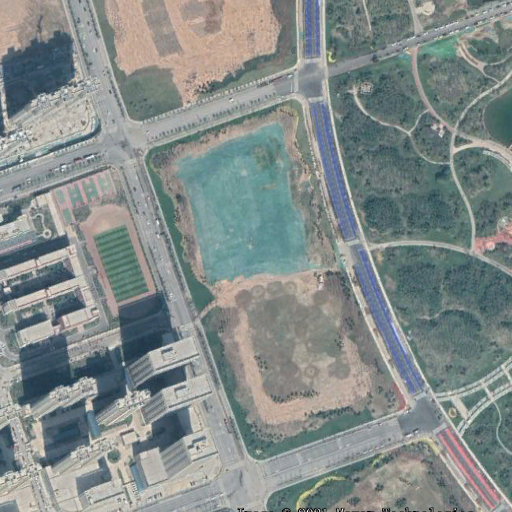cw: (173, 121, 322, 282)
